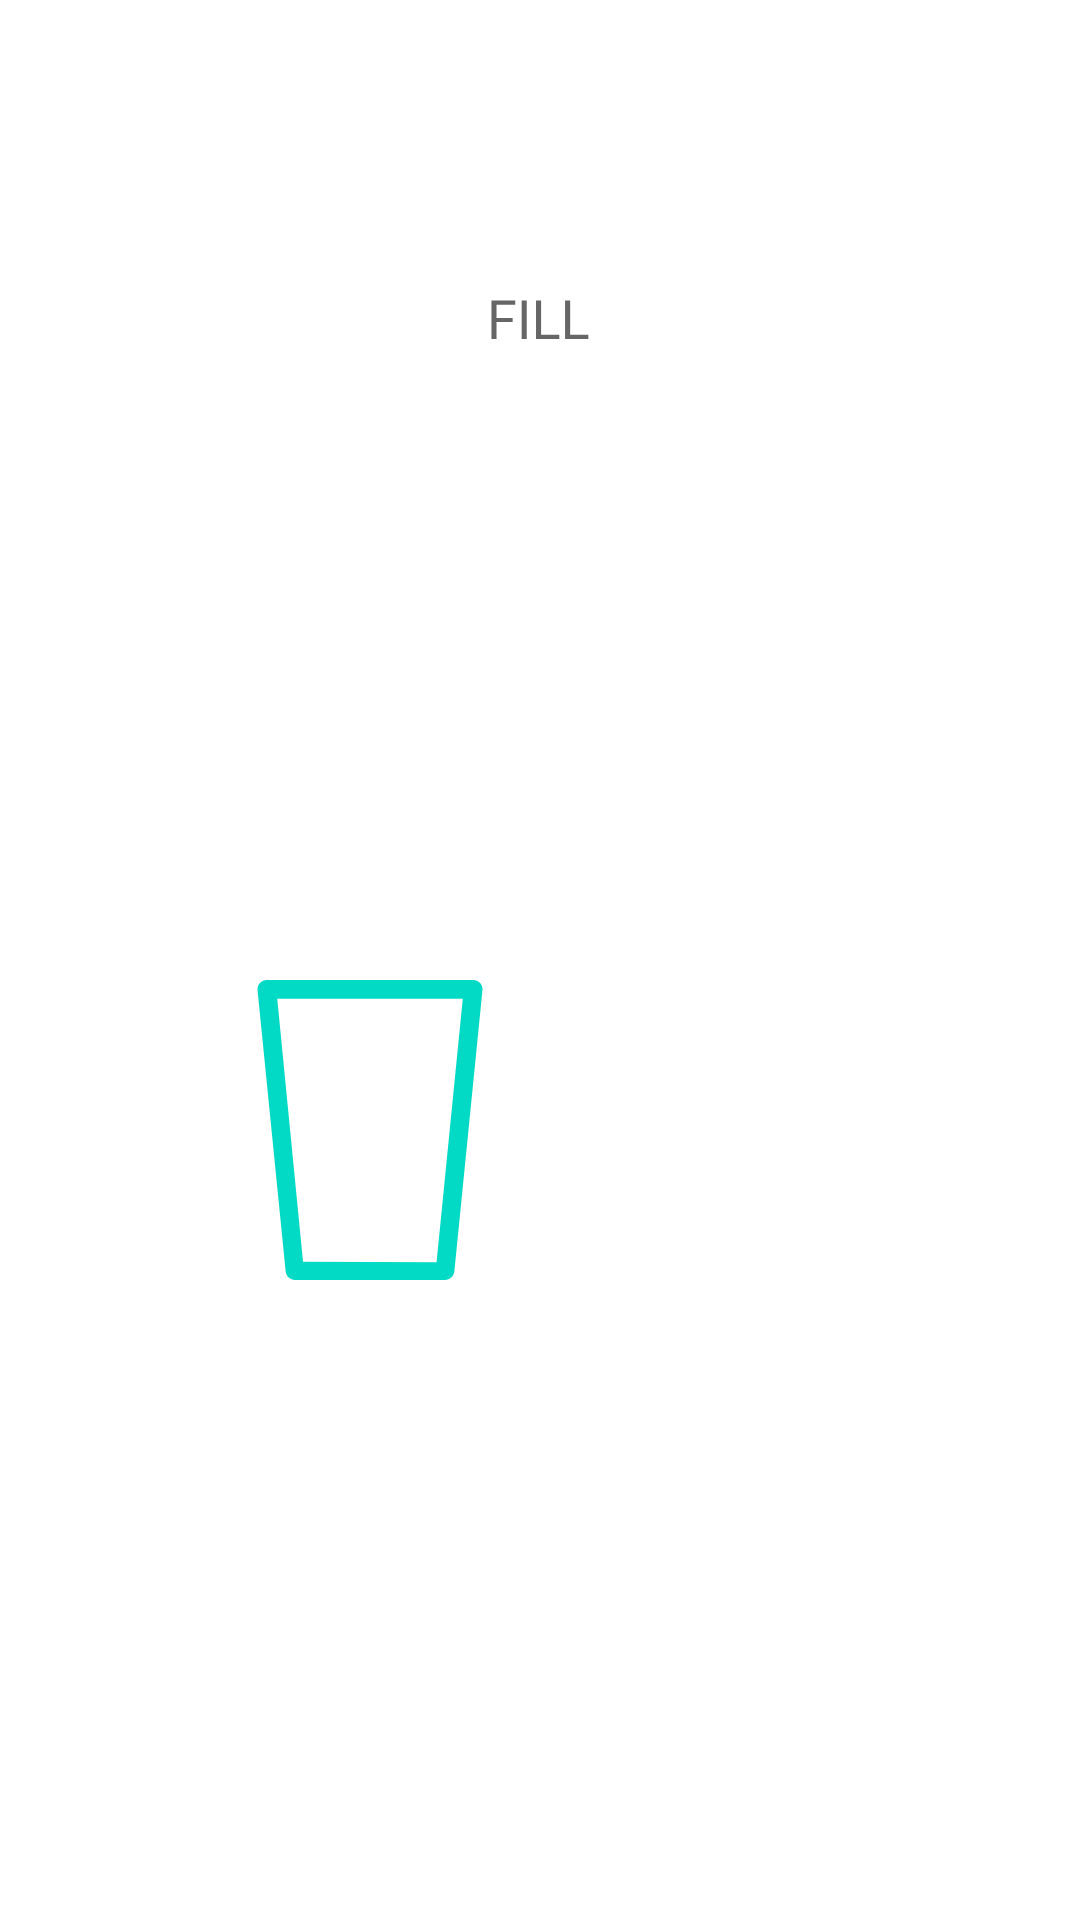

Icon click points for this 1080 × 1920 phone screenshot, format (x=x, y=y):
Glass: (x=370, y=1130)
